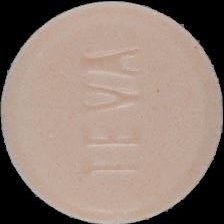52125-205: (0, 0, 224, 224)
